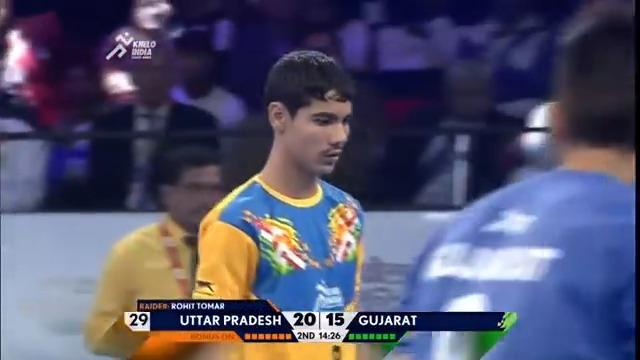Player: (82, 141, 227, 358)
Raider: (189, 48, 368, 358)
referee: (383, 1, 637, 358), (87, 0, 220, 210), (406, 37, 525, 208)
